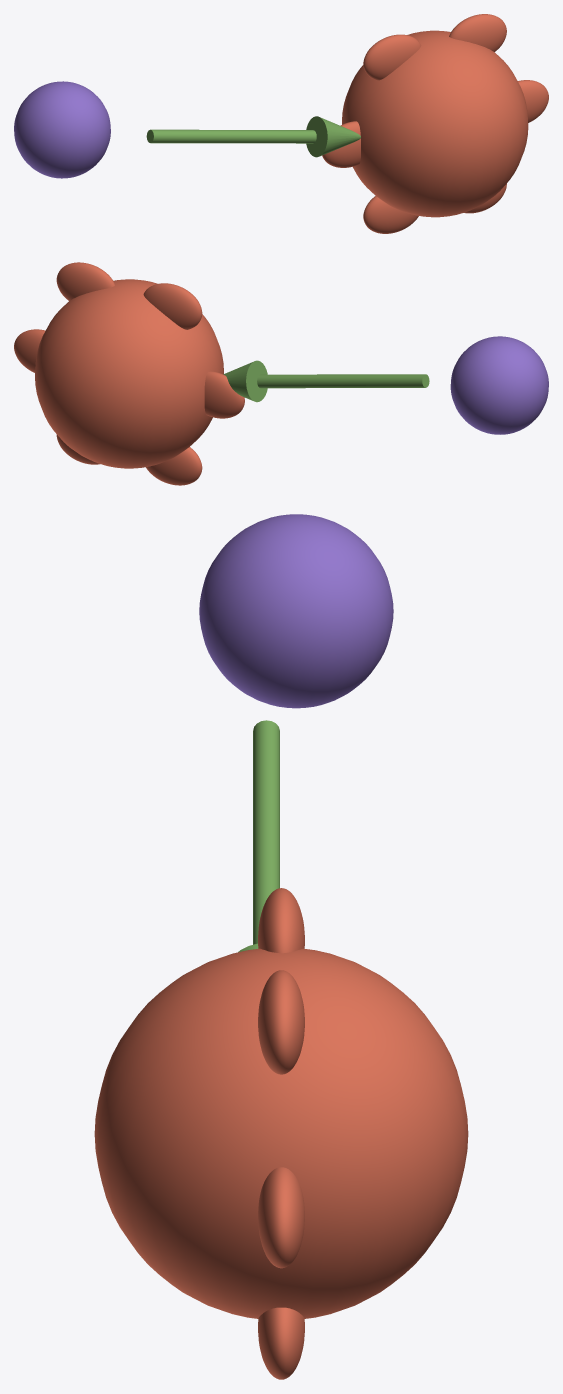
File: bio-genetics-trait.glb
3 renders of one model, top to bottom at view 1: azimuth 30°, elevation 25°; view 2: azimuth 150°, elevation 25°; view 3: azimuth 270°, elevation 25°, orthographic. The views are drawn at different scales.
Visible parts, largest first — view 1: visible-trait-flower-color, gene-input-marker, gene-to-trait-expression-shaft, trait-petal-2, trait-petal-1, gene-to-trait-expression-head, trait-petal-4, trait-petal-3, trait-petal-0, trait-petal-5; view 2: visible-trait-flower-color, gene-input-marker, gene-to-trait-expression-shaft, trait-petal-2, trait-petal-1, trait-petal-3, trait-petal-4, gene-to-trait-expression-head, trait-petal-0, trait-petal-5; view 3: visible-trait-flower-color, gene-input-marker, gene-to-trait-expression-shaft, trait-petal-1, trait-petal-0, trait-petal-5, trait-petal-2.
Boxes of the visible parts, box(x1,y1,x2,y2) form: visible-trait-flower-color: box(342, 30, 528, 217); gene-input-marker: box(14, 81, 110, 178); gene-to-trait-expression-shaft: box(146, 129, 316, 143); trait-petal-2: box(363, 34, 421, 80); trait-petal-1: box(449, 14, 506, 51); gene-to-trait-expression-head: box(306, 116, 360, 157); trait-petal-4: box(363, 196, 418, 233); trait-petal-3: box(322, 121, 360, 167); trait-petal-0: box(518, 80, 548, 122); trait-petal-5: box(464, 183, 506, 213); visible-trait-flower-color: box(35, 279, 223, 468); gene-input-marker: box(450, 336, 548, 434); gene-to-trait-expression-shaft: box(257, 374, 429, 388); trait-petal-2: box(143, 283, 202, 329); trait-petal-1: box(56, 262, 114, 300); trait-petal-3: box(204, 371, 244, 418); trait-petal-4: box(146, 447, 202, 485); gene-to-trait-expression-head: box(223, 360, 267, 402); trait-petal-0: box(14, 329, 45, 372); trait-petal-5: box(56, 434, 100, 464); visible-trait-flower-color: box(94, 948, 468, 1318); gene-input-marker: box(199, 514, 393, 708); gene-to-trait-expression-shaft: box(253, 720, 279, 944); trait-petal-1: box(258, 970, 304, 1074); trait-petal-0: box(258, 1167, 304, 1268); trait-petal-5: box(258, 1307, 304, 1379); trait-petal-2: box(258, 888, 304, 953).
Size of what is drawn, in the model's own units: 1.62 by 0.66 by 0.5.
